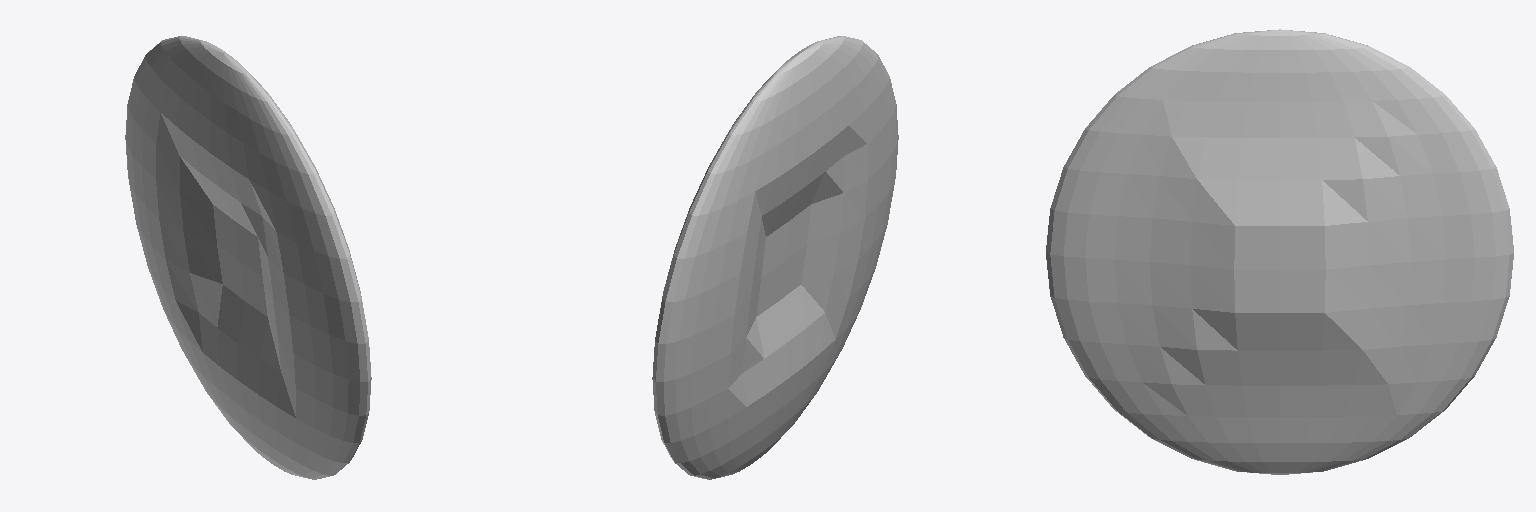
Rendered from shield_000010.obj.
The picture shows the model from 3 angles: view 1: azimuth 30°, elevation 25°; view 2: azimuth 150°, elevation 25°; view 3: azimuth 270°, elevation 25°; orthographic projection.
Size of the model in its own units: 0.4511 by 1.98 by 2.